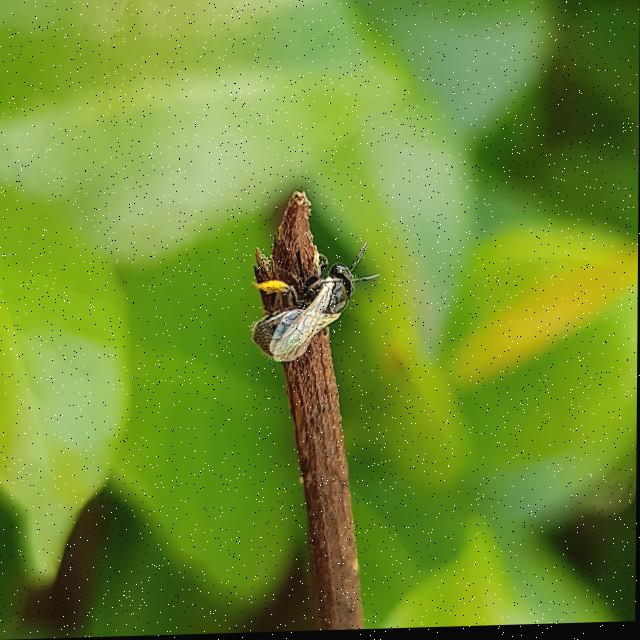Braunsapis: (248, 245, 372, 383)
